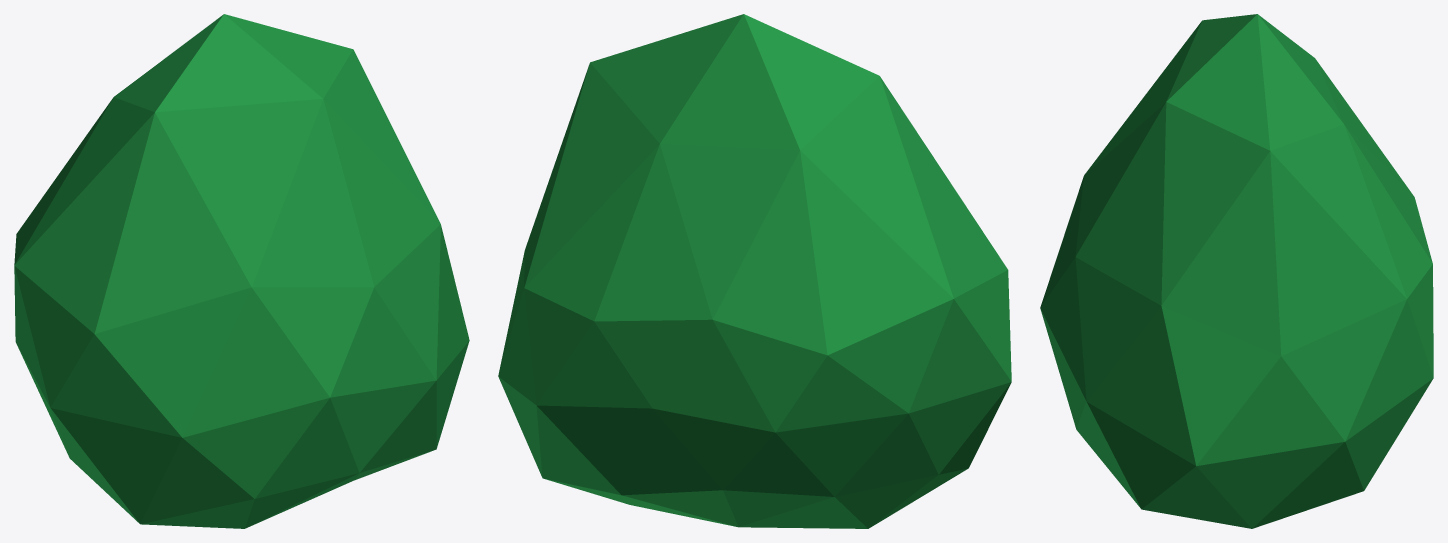
File: Bushes_02.fbx
The picture shows the model from 3 angles, left to right: view 1: azimuth 30°, elevation 25°; view 2: azimuth 150°, elevation 25°; view 3: azimuth 270°, elevation 25°; orthographic projection. The views are drawn at different scales.
Visible parts, largest first — view 1: Bushes_02; view 2: Bushes_02; view 3: Bushes_02.
Boxes of the visible parts, box(x1,y1,x2,y2) form: Bushes_02: box(14, 14, 469, 528); Bushes_02: box(498, 14, 1011, 528); Bushes_02: box(1040, 14, 1433, 528).
Bounding box in the file's own units: 76.82 × 79.67 × 62.76.
